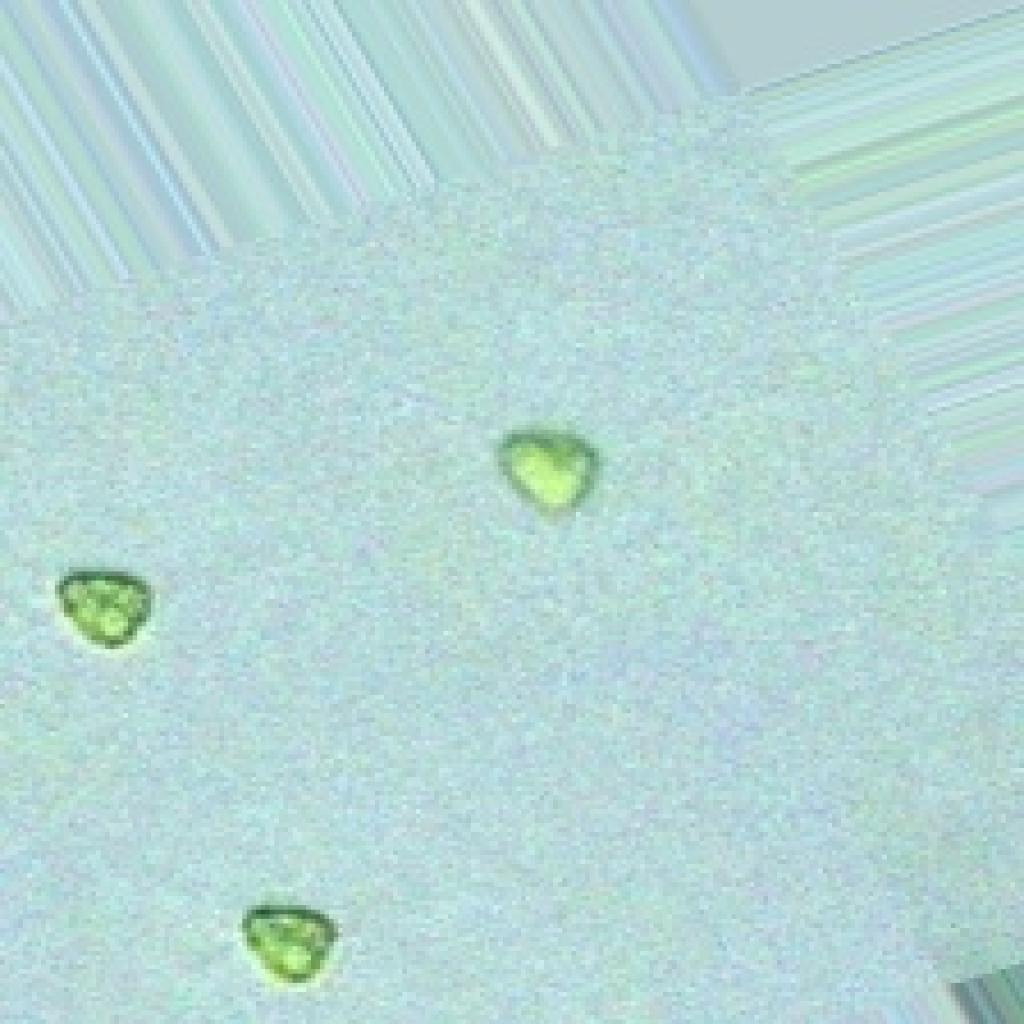Microalgae: (37, 258, 694, 1023)
